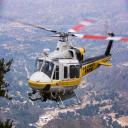helicopter: (27, 19, 123, 113)
